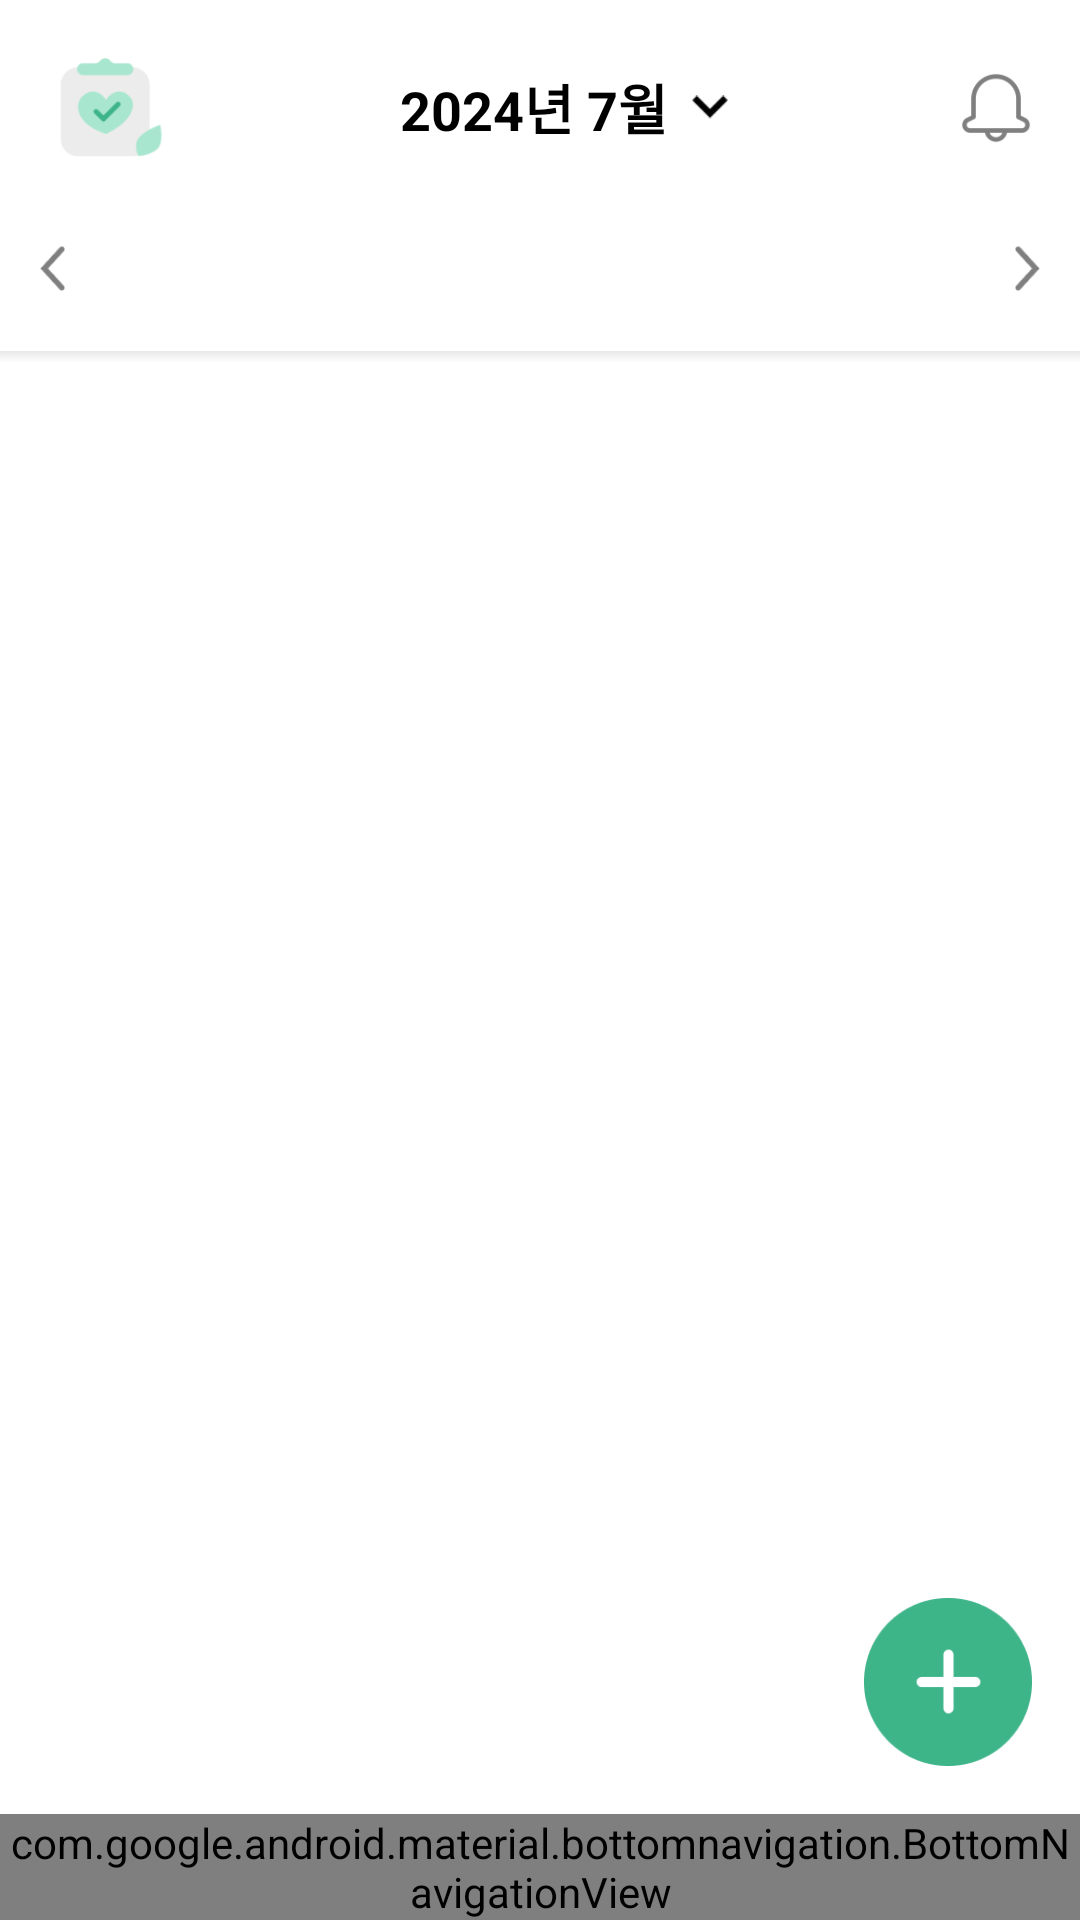

Screen size 1080 x 1920. Icon name, then its center in pixels as point (x, y):
add: point (948, 1682)
arrow down: point (710, 107)
Next week: point (1027, 268)
notification: point (996, 108)
Previous week: point (52, 268)
